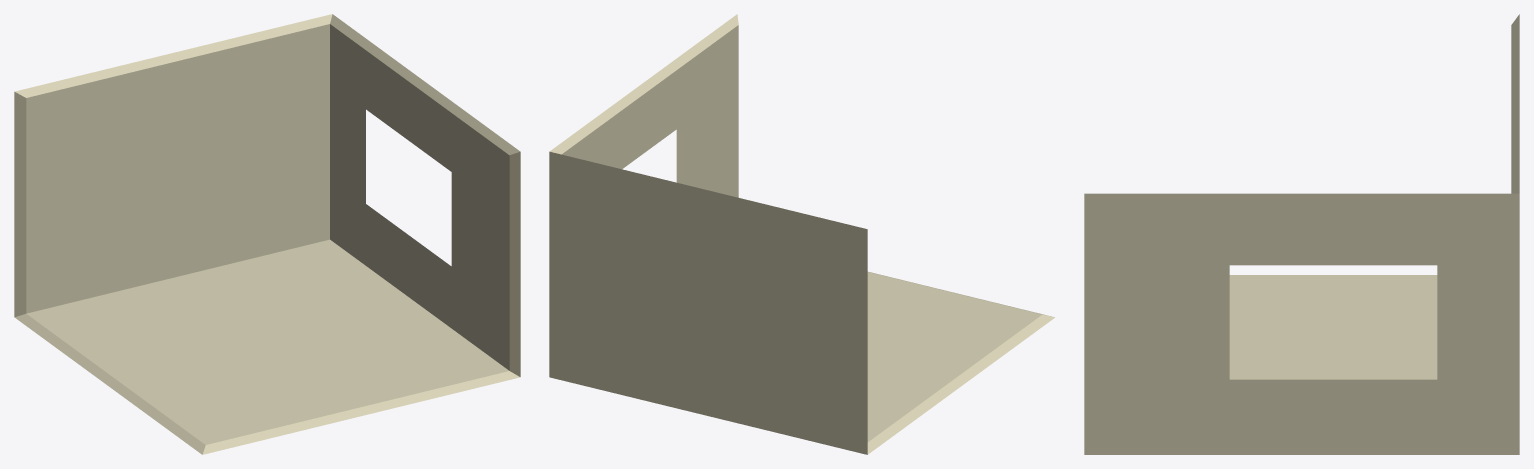
The picture shows the model from 3 angles, left to right: view 1: azimuth 30°, elevation 25°; view 2: azimuth 150°, elevation 25°; view 3: azimuth 270°, elevation 25°; orthographic projection. The views are drawn at different scales.
Visible parts, largest first — view 1: Cube; view 2: Cube; view 3: Cube.
Part boxes in pixels (<box>): Cube: <box>14,14,520,454</box>; Cube: <box>549,14,1054,454</box>; Cube: <box>1084,14,1519,454</box>.
Bounding box in the file's own units: 3 × 2.04 × 3.08.
